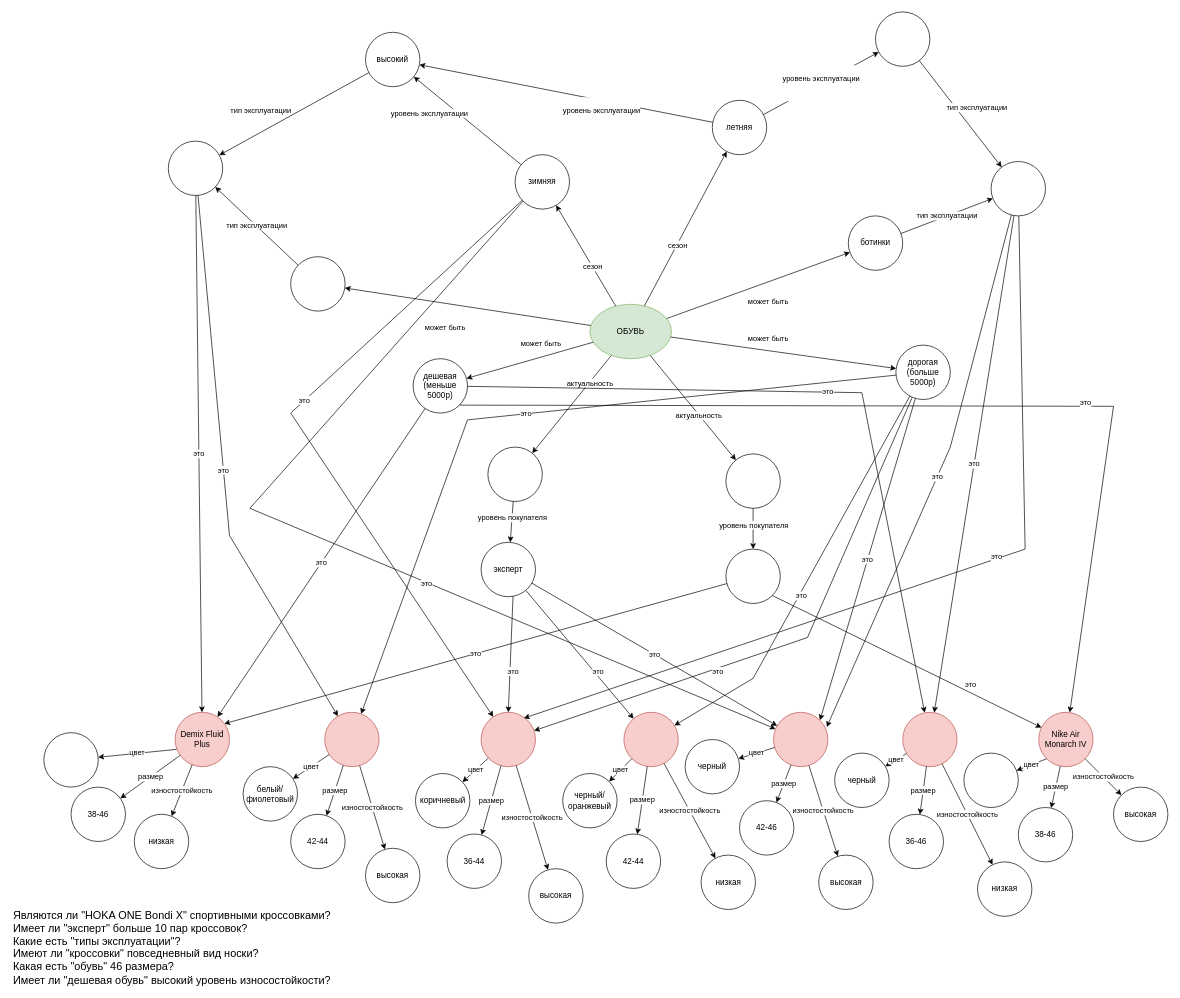
Image size: 1180x998. Some labels were removed from this diagram. Each missing label, with the centre of its shape:
"Adidas Yeezy Boost 350" goes at (650,739).
"HOKA ONE Bondi X" goes at (351,739).
"Patrol" goes at (929,739).
"ROBERTO BOTTICELLI" goes at (800,739).
"TIMBERLAND ICONS" goes at (508,739).
"белый/черный" goes at (990,780).
"кроссовки" goes at (317,283).
"мало пар (меньше 10)" goes at (752,480).
"много пар (больше 10)" goes at (514,474).
"низкий" goes at (902,38).
"новичок" goes at (752,576).
"повседневные" goes at (1018,188).
"серый" goes at (70,759).
"спортивные" goes at (195,168).
